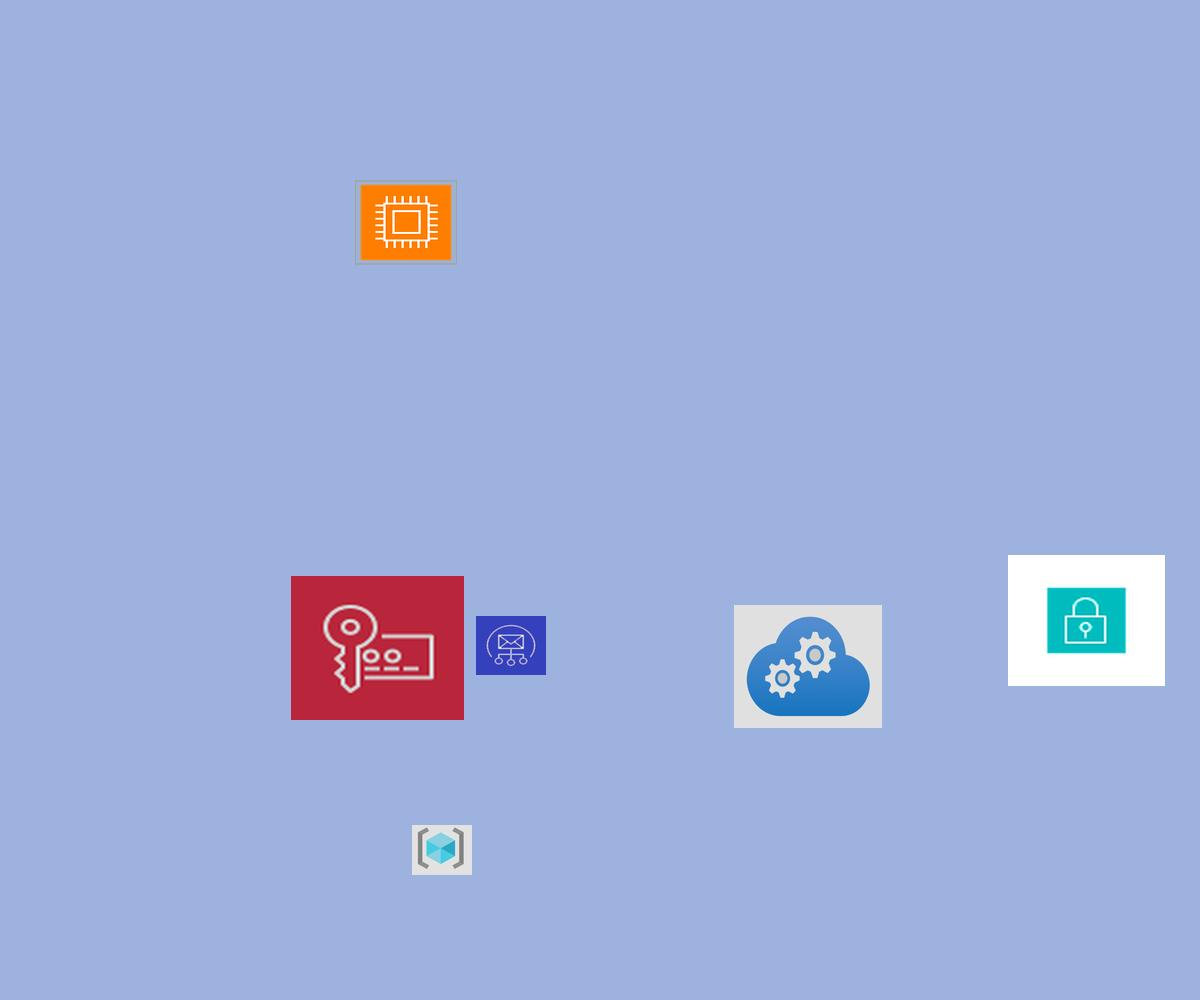AWS-Category_Compute: (355, 180, 457, 265)
AWS-Key-Management-Service: (291, 576, 464, 720)
AWS-Private-subnet: (1008, 555, 1165, 686)
AWS-Simple-Email-Service: (476, 616, 546, 675)
Azure_cloud_services: (734, 605, 882, 728)
Azure_resource_group: (412, 825, 472, 875)
